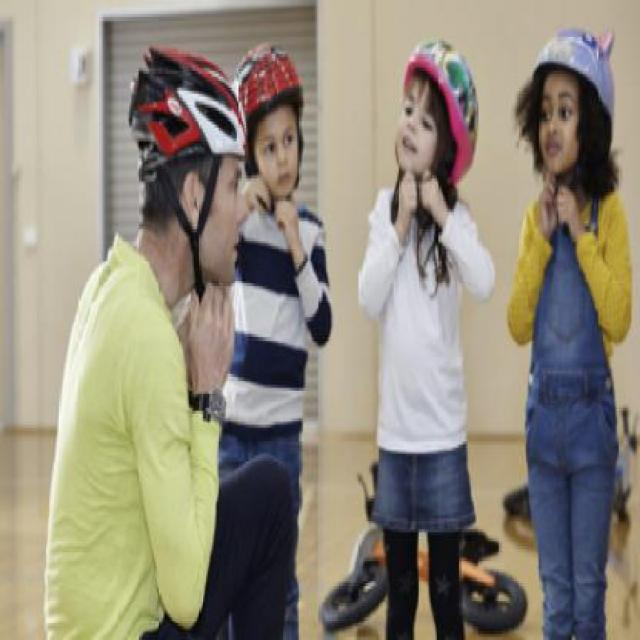face: (183, 160, 251, 289), (534, 83, 591, 175), (394, 88, 446, 177), (255, 112, 303, 197)
